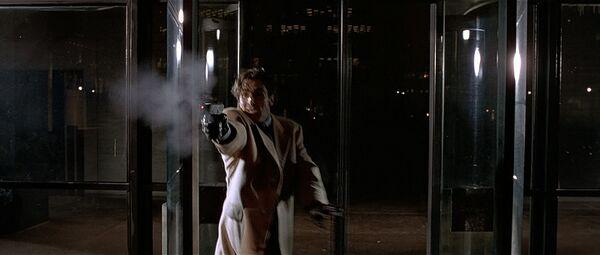Gun: (201, 102, 223, 120)
